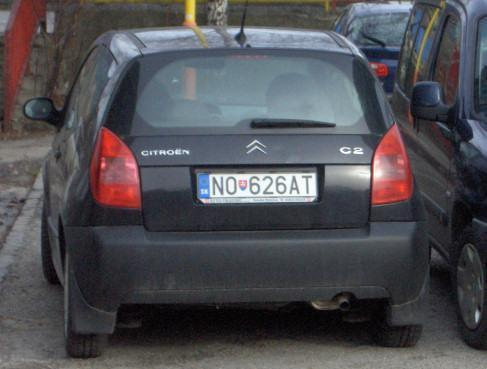placa de veiculo: (181, 154, 326, 217)
